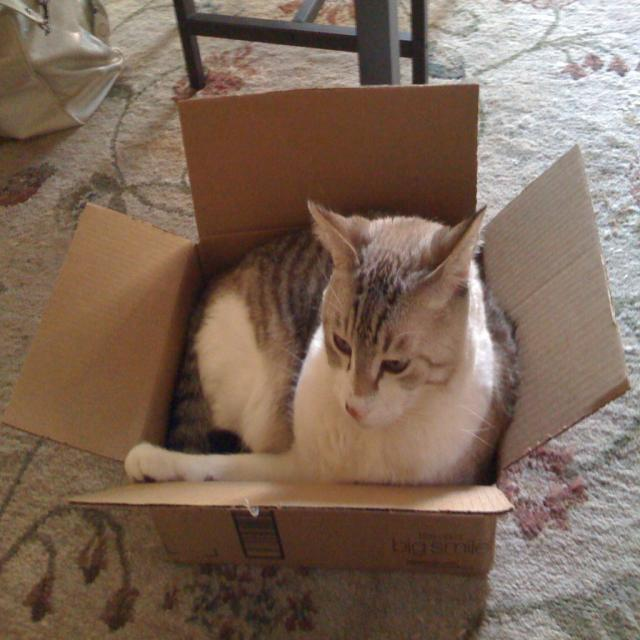Cat: (121, 197, 520, 488)
